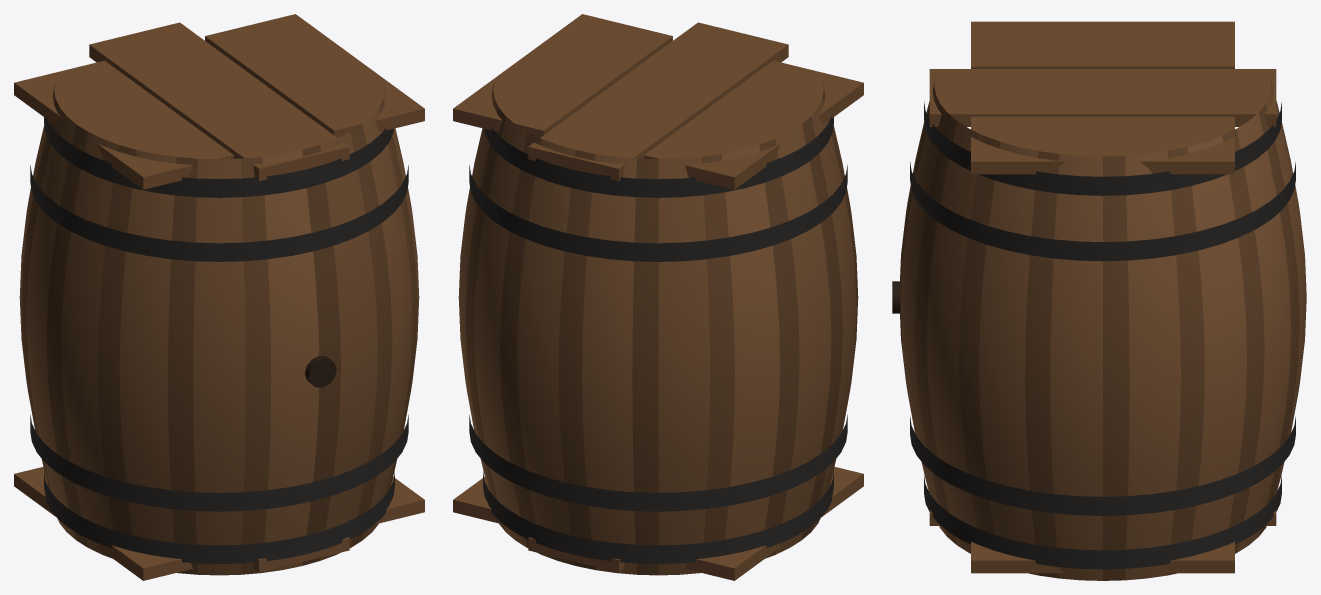
The model's file is barrel.glb.
3 views of the same model, side by side, from view 1: azimuth 30°, elevation 25°; view 2: azimuth 150°, elevation 25°; view 3: azimuth 270°, elevation 25° (orthographic). The views are drawn at different scales.
Visible parts, largest first — view 1: staves, head-board (×6), hoop (×4), bung; view 2: staves, head-board (×6), hoop (×4); view 3: staves, head-board (×4), hoop (×4).
Part boxes in pixels (x1,y1,x2,y2): staves: (19, 82, 419, 575); head-board (×6): (14, 14, 424, 580); hoop (×4): (30, 116, 408, 563); bung: (305, 355, 336, 387); staves: (458, 82, 858, 575); head-board (×6): (453, 14, 863, 580); hoop (×4): (469, 116, 847, 563); staves: (900, 77, 1306, 580); head-board (×4): (929, 21, 1276, 573); hoop (×4): (910, 102, 1295, 569).
Bounding box in the file's own units: 0.87 × 1 × 0.885.
